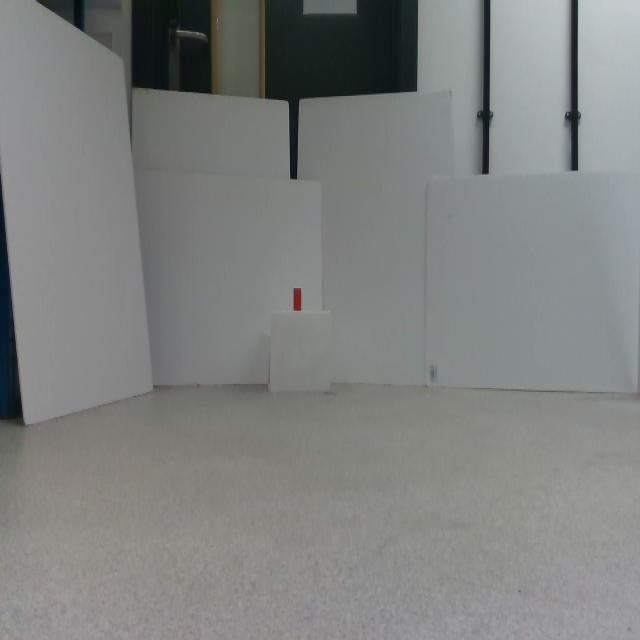red_cylinder: (293, 288, 301, 311)
